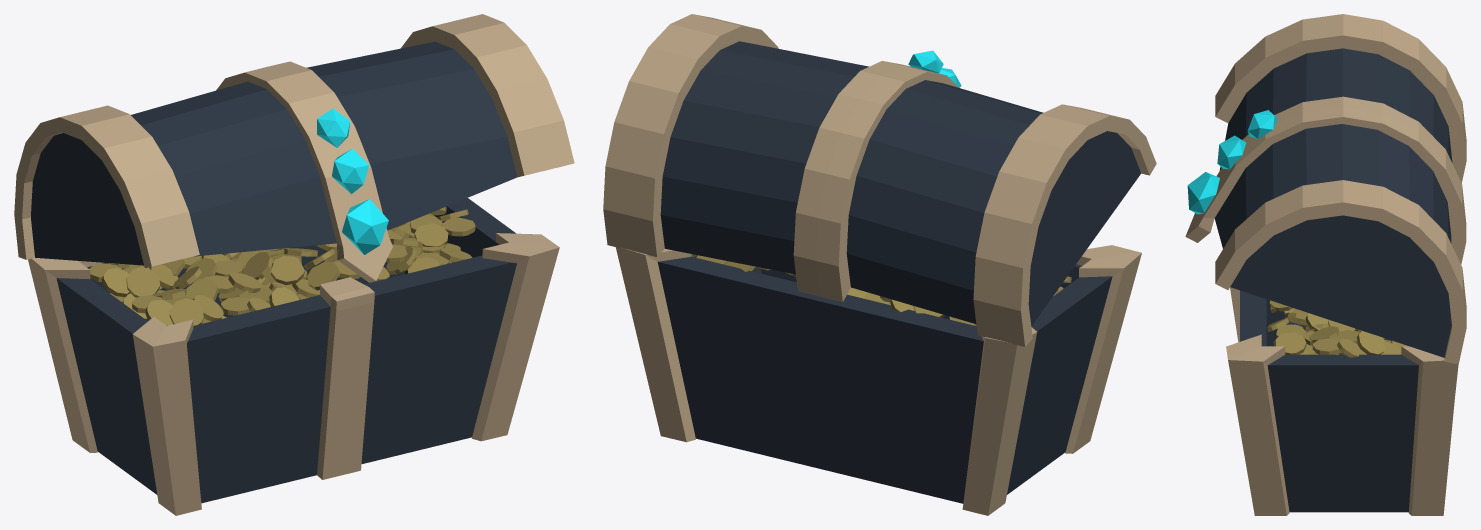
File: NoBox.fbx
The picture shows the model from 3 angles, left to right: view 1: azimuth 30°, elevation 25°; view 2: azimuth 150°, elevation 25°; view 3: azimuth 270°, elevation 25°; orthographic projection. The views are drawn at different scales.
Parts seen in each view (by area): view 1: polySurface23.131; view 2: polySurface23.131; view 3: polySurface23.131.
Boxes of the visible parts, x1=… form: polySurface23.131: x1=14, y1=14, x2=574, y2=515; polySurface23.131: x1=603, y1=14, x2=1156, y2=515; polySurface23.131: x1=1185, y1=14, x2=1466, y2=515.
Size of the model in its own units: 296 by 245 by 187.
